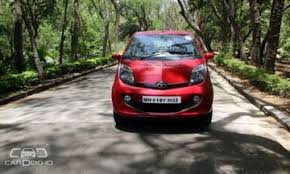Nano: (110, 28, 216, 134)
